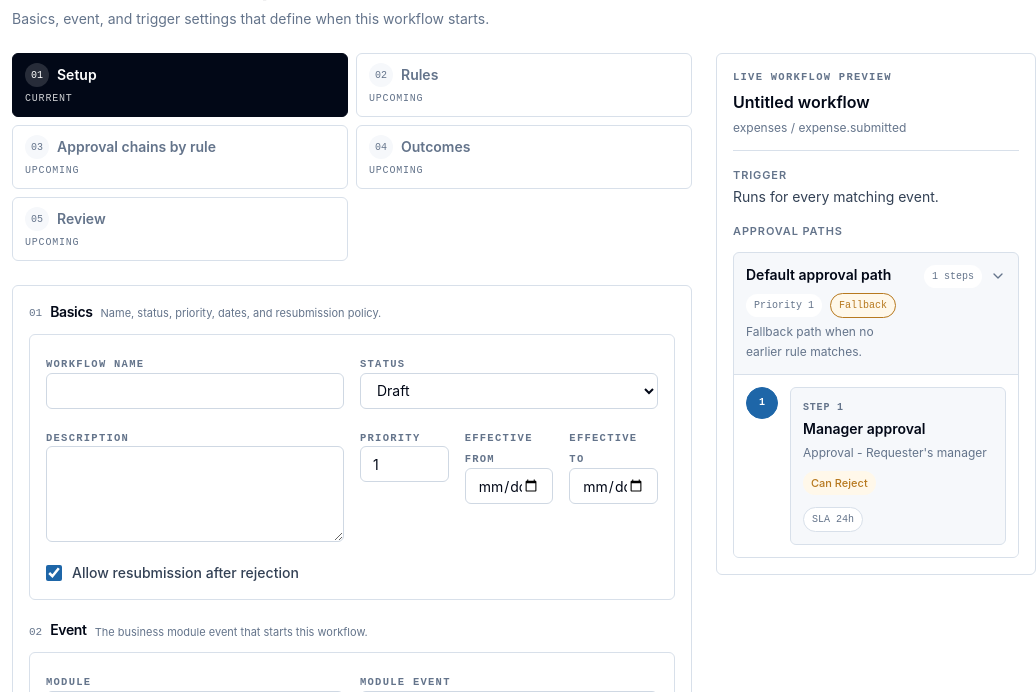
WorkflowBuilderPage trigger setup › starts added rules from the default approval chain
Click the button "02 Rules Upcoming" at (420, 75), box [356,53,692,117]
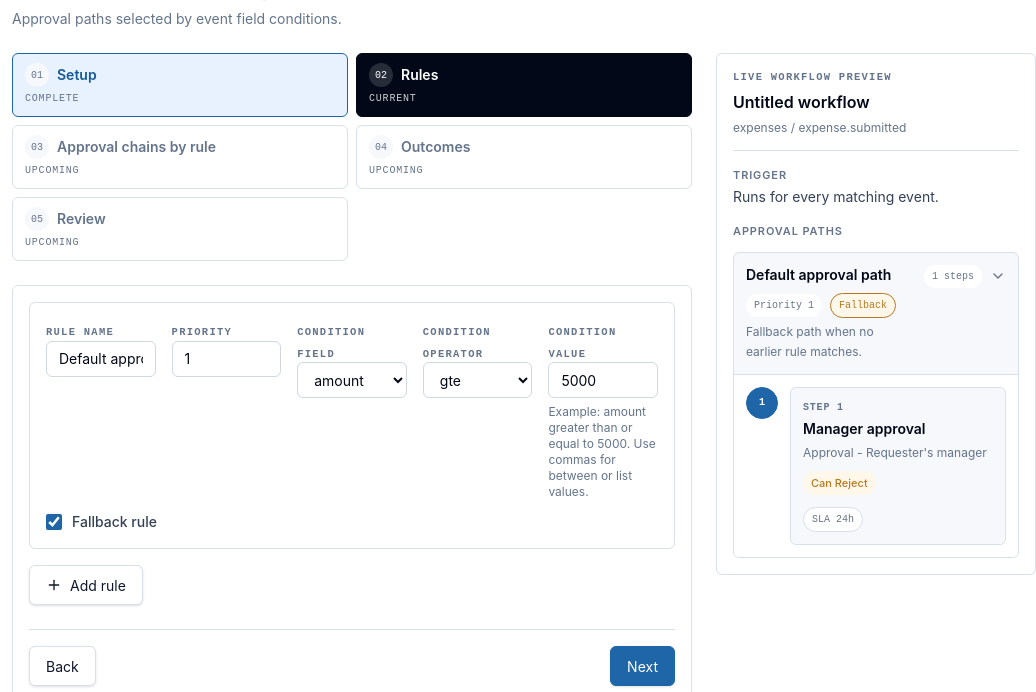
Click the button "Add rule" at (86, 585), box [29,565,143,605]
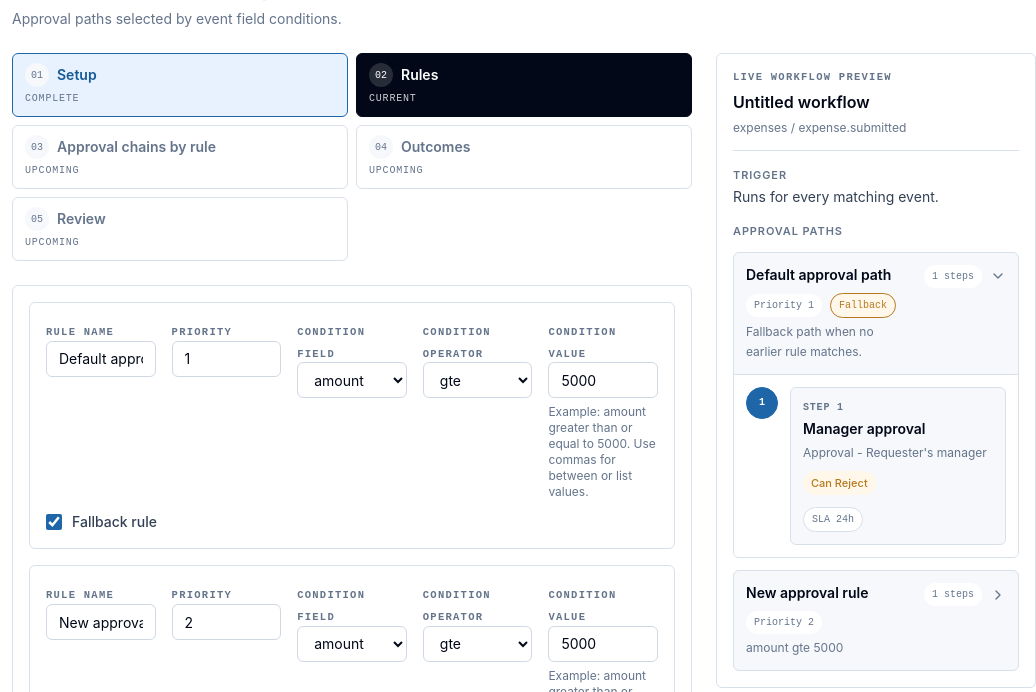
Click the button "03 Approval chains by rule Upcoming" at (180, 157), box [12,125,348,189]
(page scrolled)
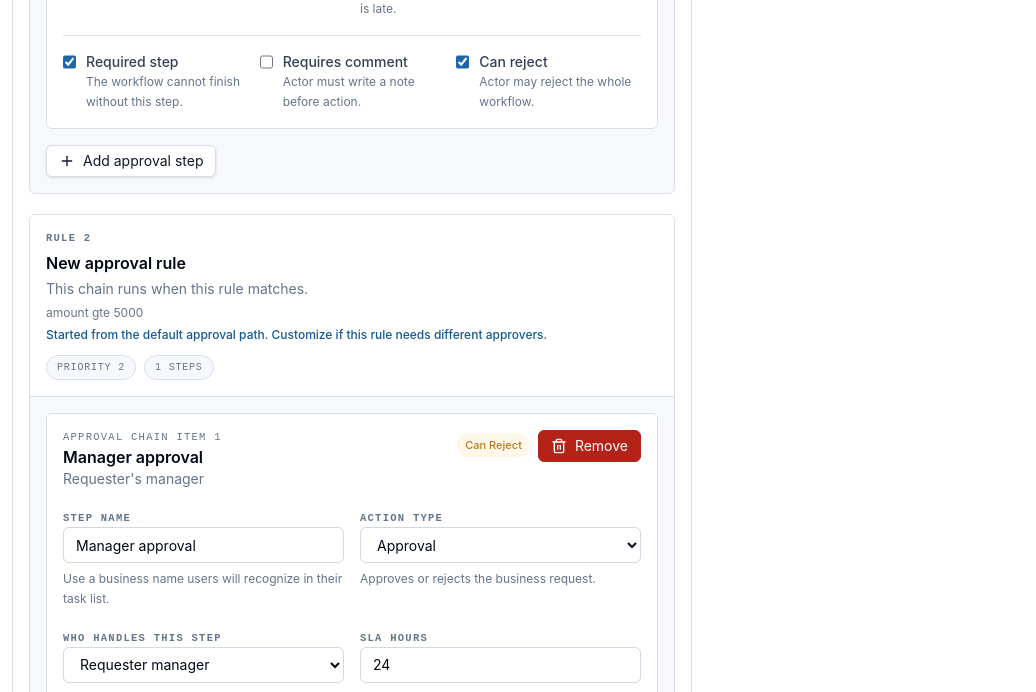
Expected: the heading "New approval rule" is shown, [46,252,186,272]
Expected: the text "Started from the default approval path. Customize if this rule needs different approvers." is shown, [46,326,547,342]
